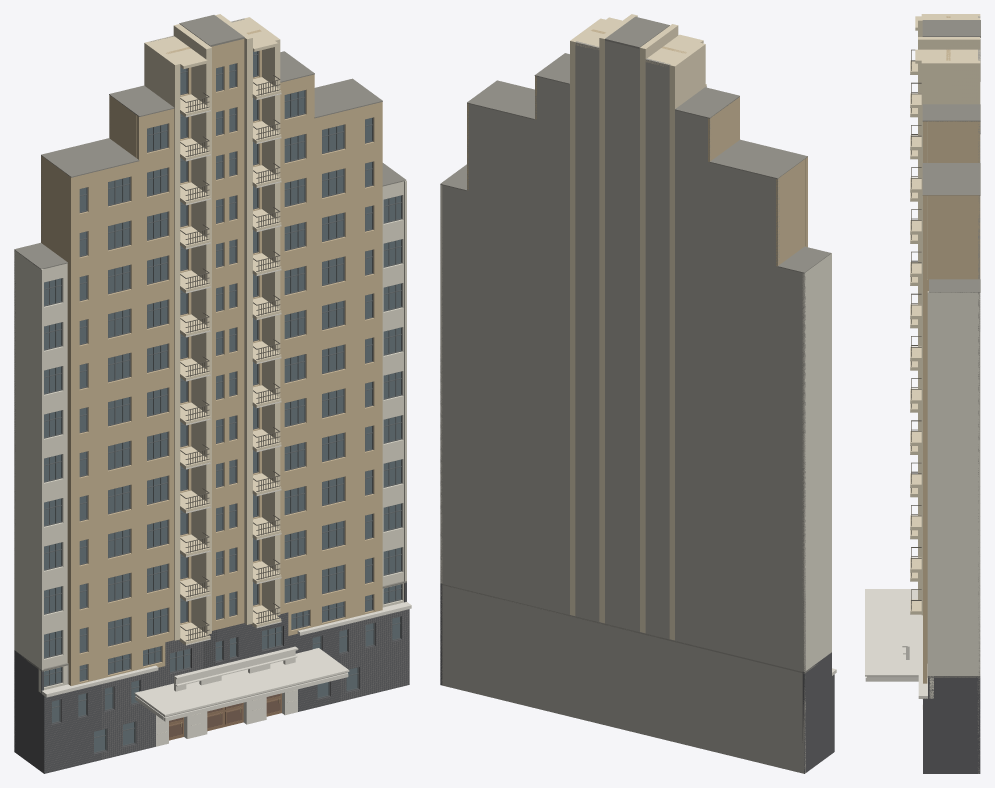
The model's file is xuhui-picardie-apartments-south-front-web.glb.
The picture shows the model from 3 angles, left to right: view 1: azimuth 30°, elevation 25°; view 2: azimuth 150°, elevation 25°; view 3: azimuth 270°, elevation 25°; orthographic projection. The views are drawn at different scales.
Visible parts, largest first — view 1: 毕卡迪公寓南向阶梯塔楼与534号入口; view 2: 毕卡迪公寓南向阶梯塔楼与534号入口; view 3: 毕卡迪公寓南向阶梯塔楼与534号入口.
Part boxes in pixels (box(x1,y1,x2,y2)): 毕卡迪公寓南向阶梯塔楼与534号入口: box(14, 14, 411, 773); 毕卡迪公寓南向阶梯塔楼与534号入口: box(440, 14, 836, 773); 毕卡迪公寓南向阶梯塔楼与534号入口: box(865, 14, 980, 773).
Size of the model in its own units: 31 by 55.83 by 8.87.
